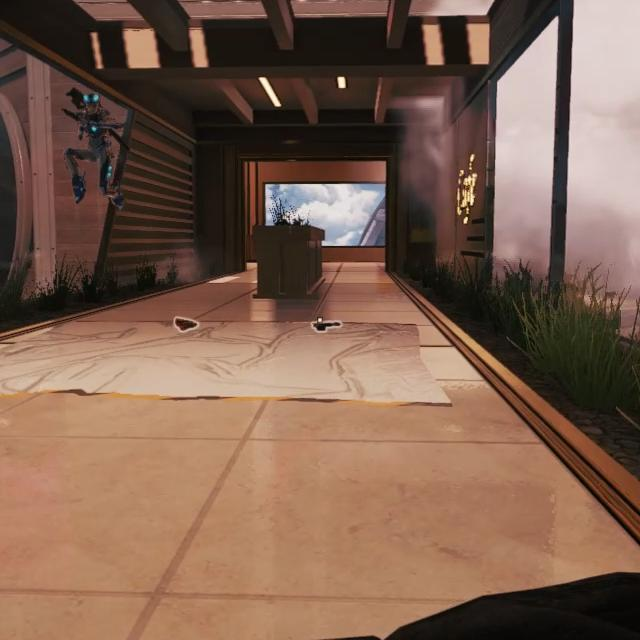avatar: (62, 84, 127, 213)
